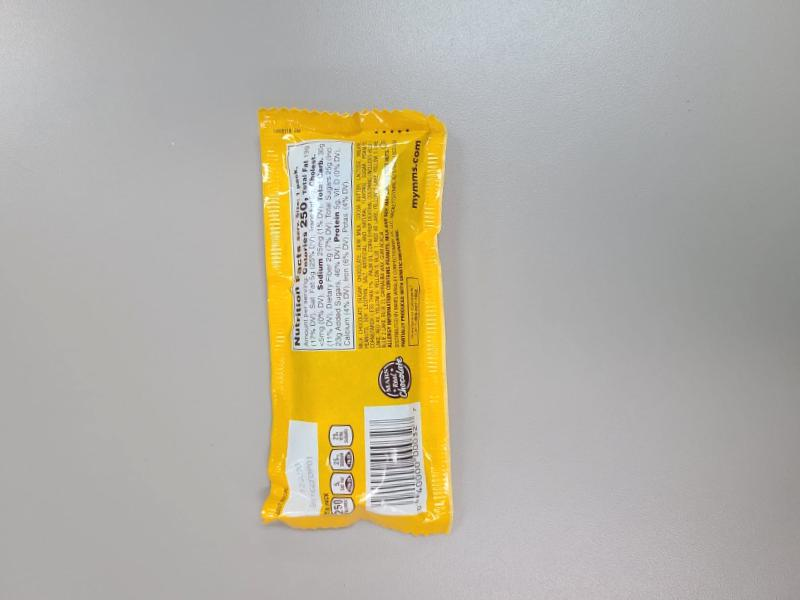m&m: (225, 94, 483, 525)
